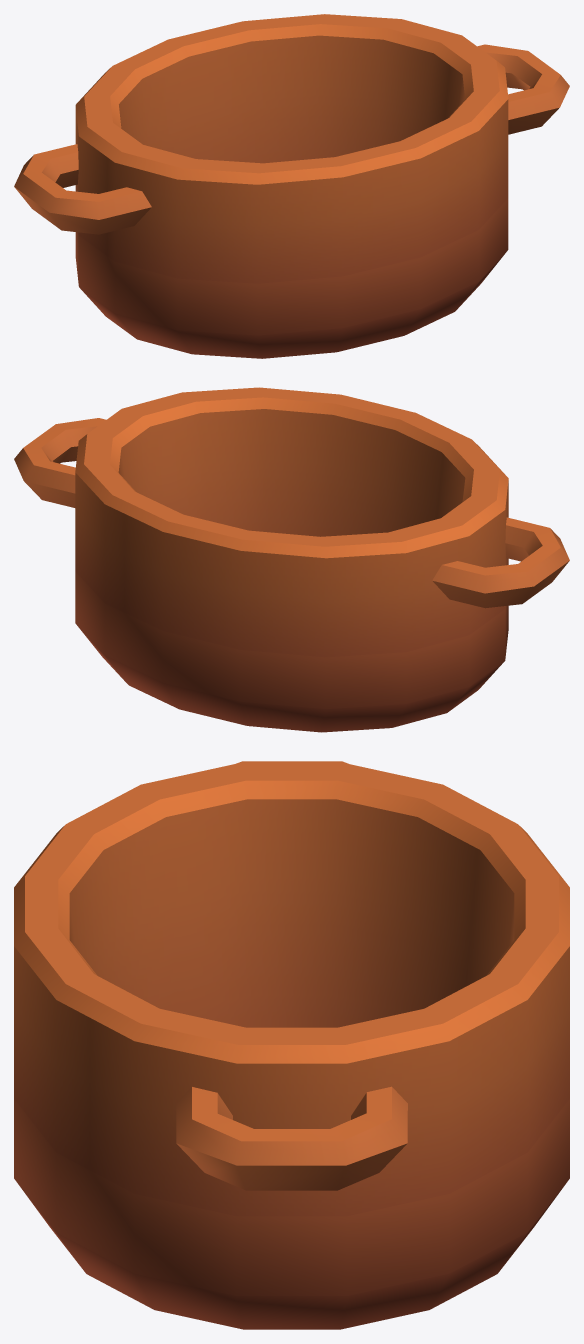
File: Large pot.glb
3 renders of one model, top to bottom at view 1: azimuth 30°, elevation 25°; view 2: azimuth 150°, elevation 25°; view 3: azimuth 270°, elevation 25°, orthographic. The views are drawn at different scales.
Parts seen in each view (by area): view 1: pot_large; view 2: pot_large; view 3: pot_large.
Boxes of the visible parts, x1,y1,x2,y2 form: pot_large: (14,14,569,358); pot_large: (14,387,569,732); pot_large: (14,761,569,1329).
Size of the model in its own units: 2 by 0.75 by 1.2.
Materials: 1 (1 with a texture image).
